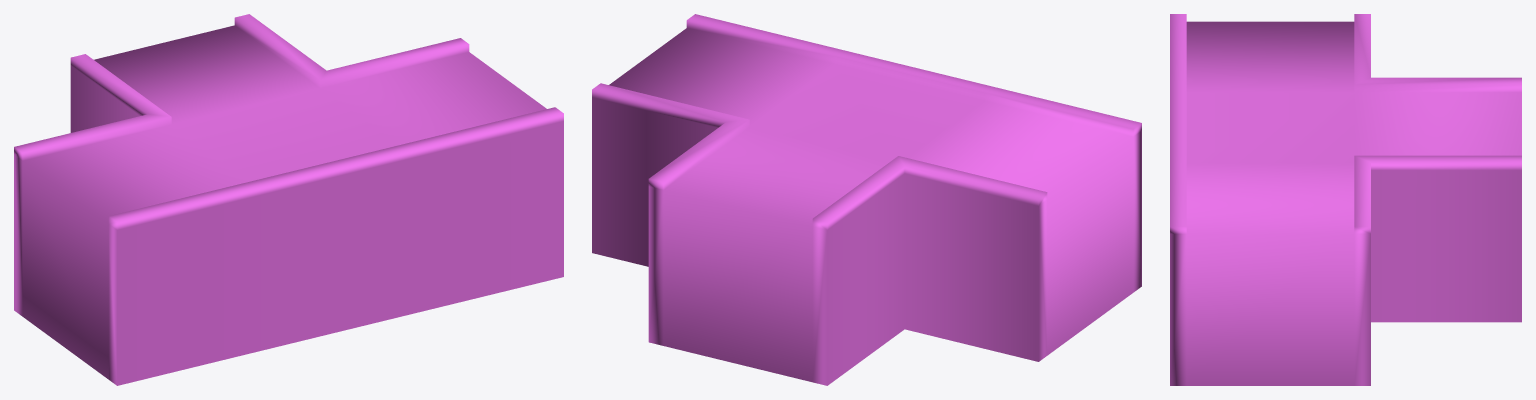
3 views of the same model, side by side, from view 1: azimuth 30°, elevation 25°; view 2: azimuth 150°, elevation 25°; view 3: azimuth 270°, elevation 25° (orthographic). The views are drawn at different scales.
Visible parts, largest first — view 1: Mesh; view 2: Mesh; view 3: Mesh.
Boxes of the visible parts, left/top/right/bottom form: Mesh: left=14, top=14, right=563, bottom=385; Mesh: left=592, top=14, right=1141, bottom=385; Mesh: left=1170, top=14, right=1521, bottom=385.
Size of the model in its own units: 1200 by 420 by 840.
